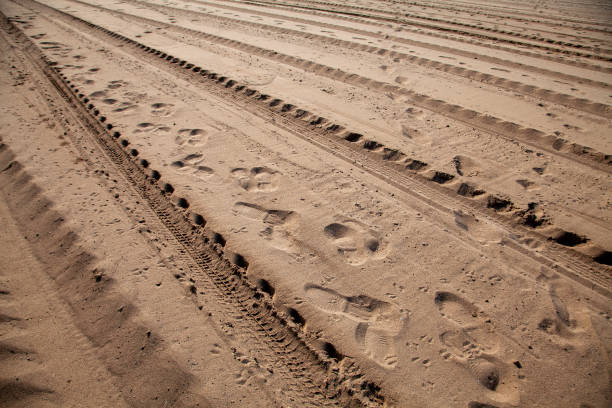human_footprint: (434, 291, 518, 405), (304, 284, 407, 368), (537, 273, 595, 347), (233, 202, 297, 252), (323, 217, 388, 264), (171, 128, 214, 177), (88, 80, 144, 112), (454, 210, 503, 243), (231, 166, 280, 191), (171, 153, 214, 177), (175, 128, 207, 146), (39, 40, 72, 57), (101, 98, 136, 112), (132, 122, 170, 134), (150, 102, 174, 116)
